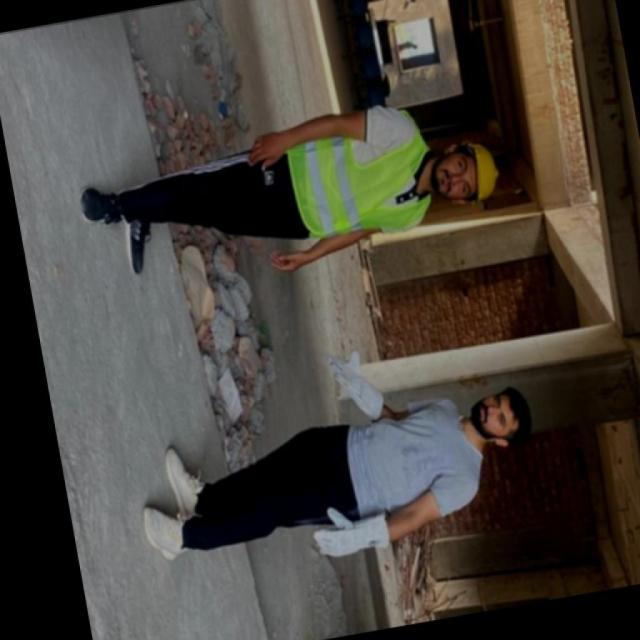Gloves-Detection: (324, 346, 385, 416), (318, 502, 392, 559)
